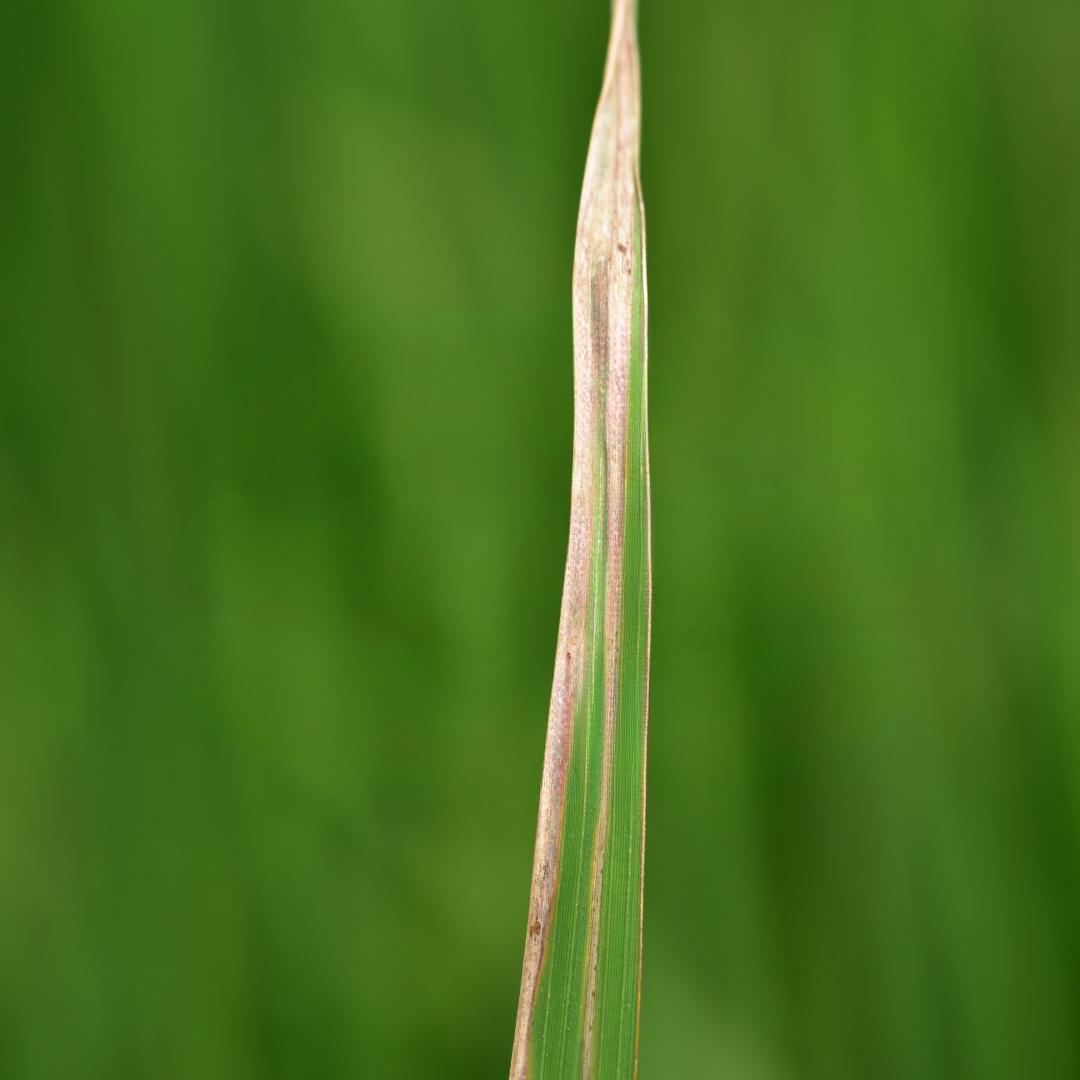BLB: (511, 2, 639, 1078)
LEAF: (510, 0, 651, 1079)
